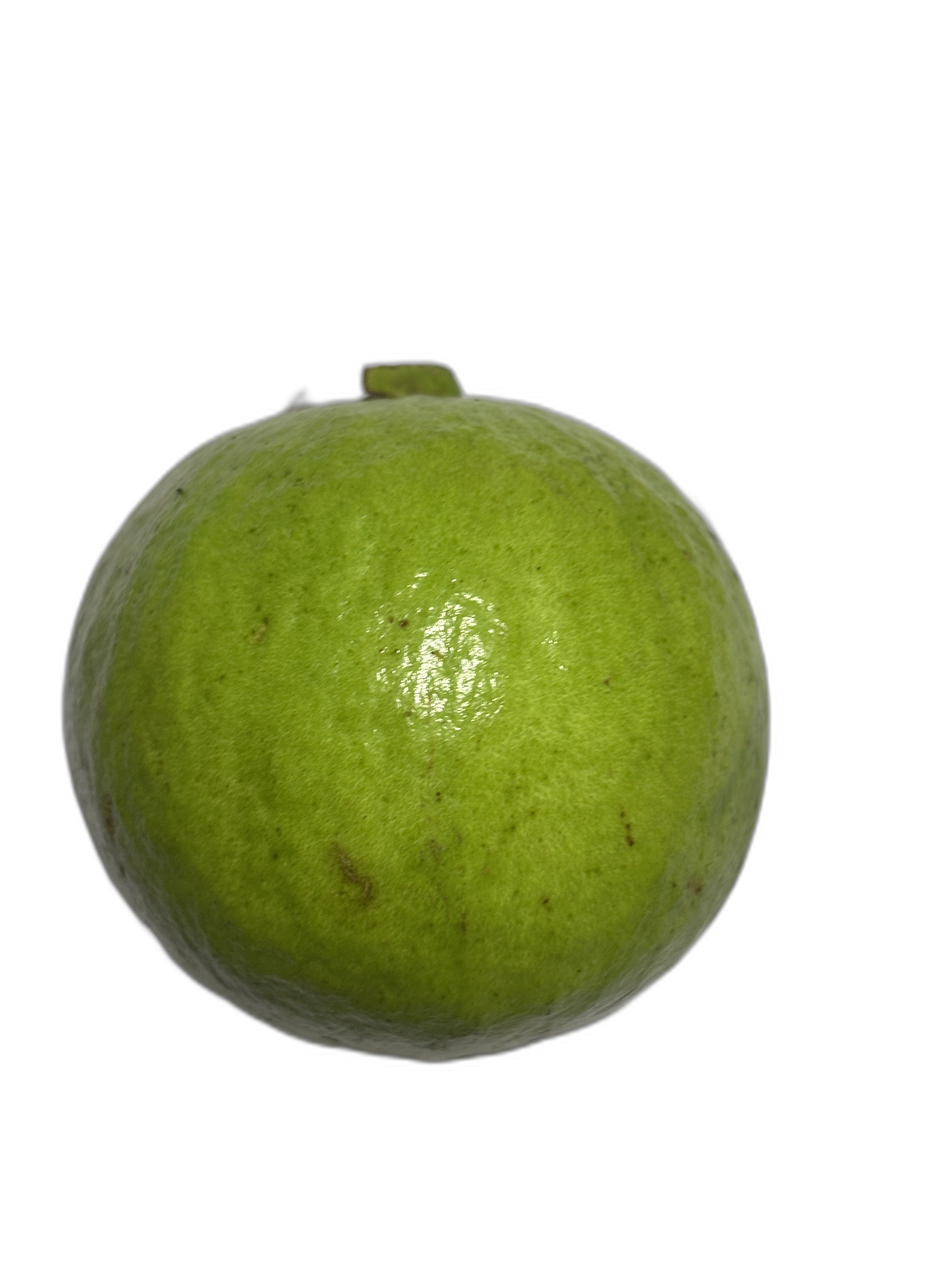guava: (175, 225, 952, 1118)
